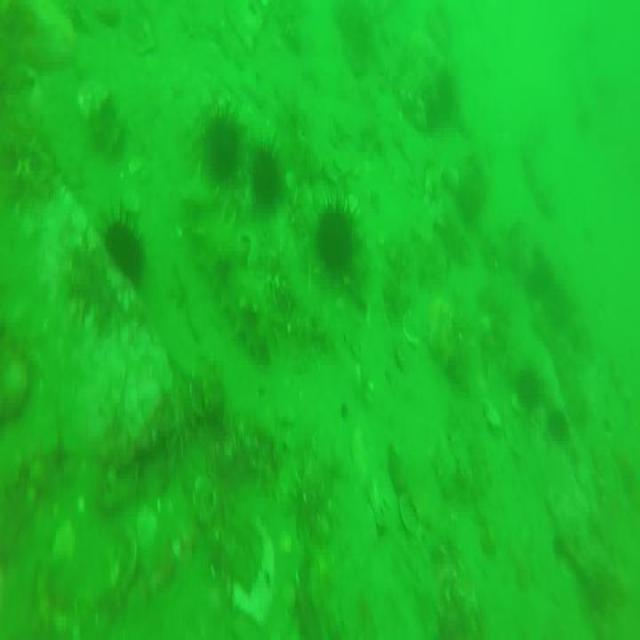echinus: (98, 202, 148, 284), (317, 195, 351, 276), (205, 108, 239, 180), (252, 145, 278, 207), (519, 374, 540, 412), (548, 414, 568, 442)
holothurian: (182, 166, 283, 365), (116, 363, 230, 449), (297, 442, 350, 522)
scallop: (192, 478, 218, 530), (396, 488, 422, 538)
